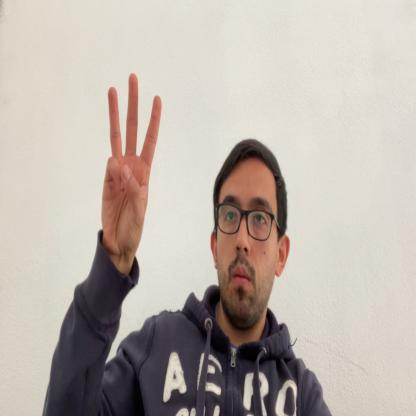W: (102, 71, 162, 265)
